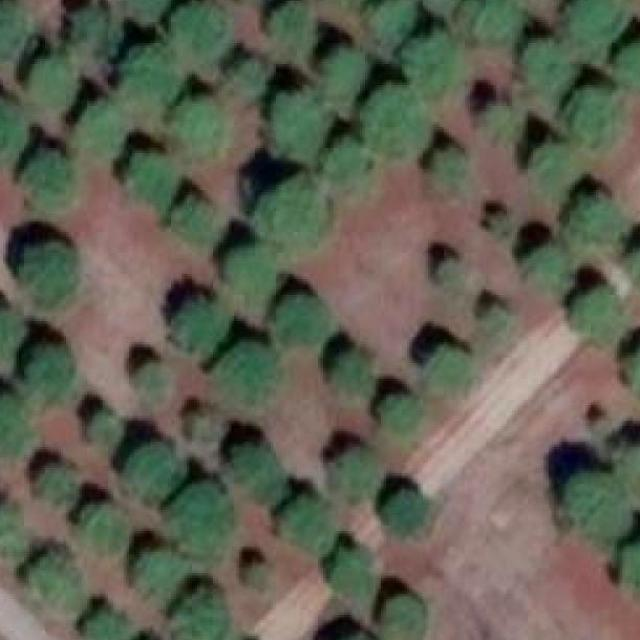Tree: (265, 172, 337, 246), (169, 0, 235, 69), (174, 480, 237, 552), (17, 242, 83, 308), (368, 83, 431, 149), (226, 440, 292, 502), (566, 83, 628, 149), (114, 48, 180, 109), (266, 96, 332, 156), (213, 342, 281, 400), (166, 295, 232, 352), (562, 476, 626, 534), (407, 28, 463, 94), (19, 340, 74, 406), (124, 442, 187, 499), (24, 557, 85, 615), (166, 96, 223, 156), (69, 104, 122, 167), (80, 503, 137, 560), (523, 38, 580, 95), (22, 150, 75, 211), (223, 242, 284, 295), (270, 293, 332, 345), (381, 487, 442, 539), (328, 141, 384, 196), (265, 1, 318, 59), (281, 492, 334, 550), (460, 0, 526, 46), (568, 193, 625, 246), (171, 588, 228, 640), (328, 550, 379, 607), (535, 138, 586, 195), (134, 552, 192, 599), (564, 0, 630, 41), (29, 59, 80, 111), (318, 48, 370, 99), (423, 342, 473, 395), (530, 237, 580, 290), (570, 284, 620, 337), (365, 0, 421, 46), (328, 347, 374, 403), (332, 447, 384, 494), (124, 154, 174, 200), (226, 54, 276, 100), (376, 594, 426, 640), (66, 9, 106, 62), (0, 1, 33, 62), (185, 405, 232, 447), (476, 98, 518, 144), (0, 98, 29, 164), (0, 398, 33, 455), (379, 389, 426, 429), (0, 502, 29, 565), (174, 195, 216, 237), (482, 303, 522, 345), (34, 466, 80, 502), (430, 148, 470, 188), (0, 305, 24, 366), (84, 604, 124, 640), (619, 436, 640, 504), (619, 535, 640, 601), (134, 361, 171, 398), (84, 413, 124, 445), (114, 0, 176, 20), (437, 256, 471, 291), (619, 33, 640, 85), (244, 559, 276, 589), (624, 237, 640, 293), (624, 347, 640, 400), (489, 211, 515, 240), (326, 630, 389, 640), (316, 0, 379, 6)
